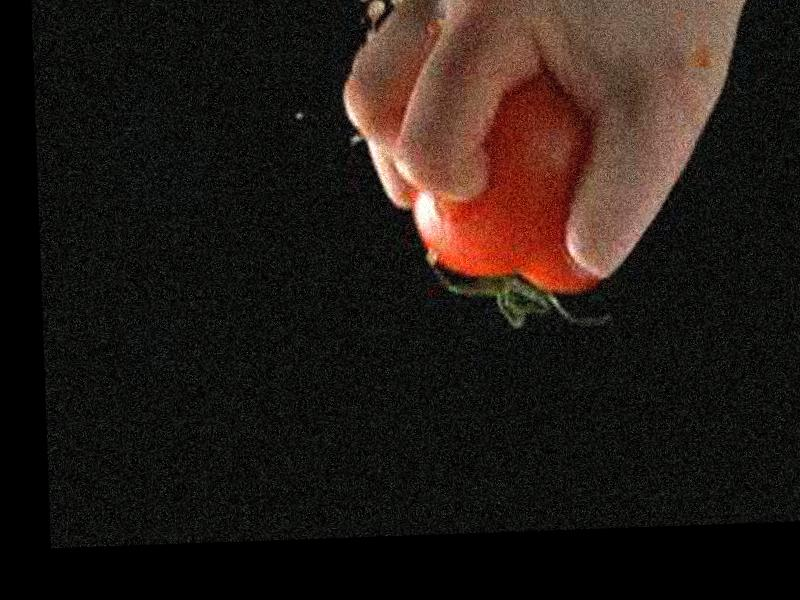Tomato: (409, 74, 601, 298)
